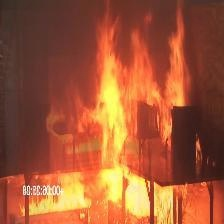fire: (31, 2, 221, 224)
